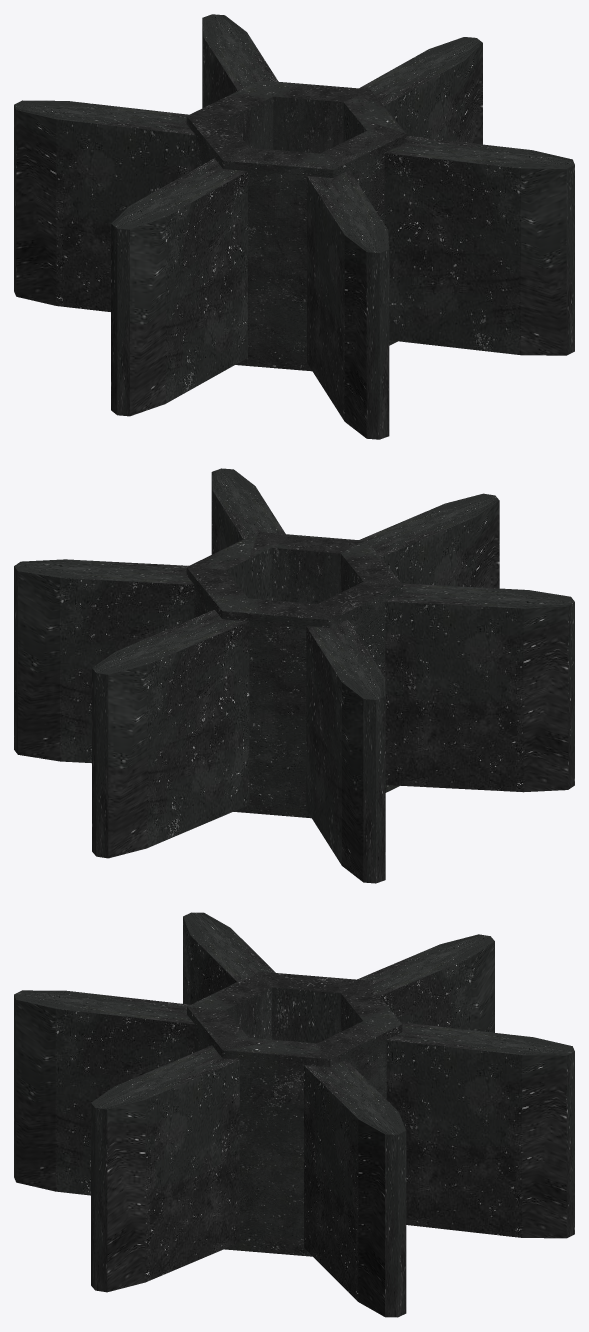
Rendered from tikitown_water_blades.fbx.
The picture shows the model from 3 angles, top to bottom: view 1: azimuth 30°, elevation 25°; view 2: azimuth 150°, elevation 25°; view 3: azimuth 270°, elevation 25°; orthographic projection. The views are drawn at different scales.
Visible parts, largest first — view 1: Cylinder.002; view 2: Cylinder.002; view 3: Cylinder.002.
Boxes of the visible parts, x1,y1,x2,y2 form: Cylinder.002: [14, 14, 574, 439]; Cylinder.002: [14, 468, 574, 883]; Cylinder.002: [14, 912, 574, 1317].
Size of the model in its own units: 0.2396 by 0.1 by 0.2556.
